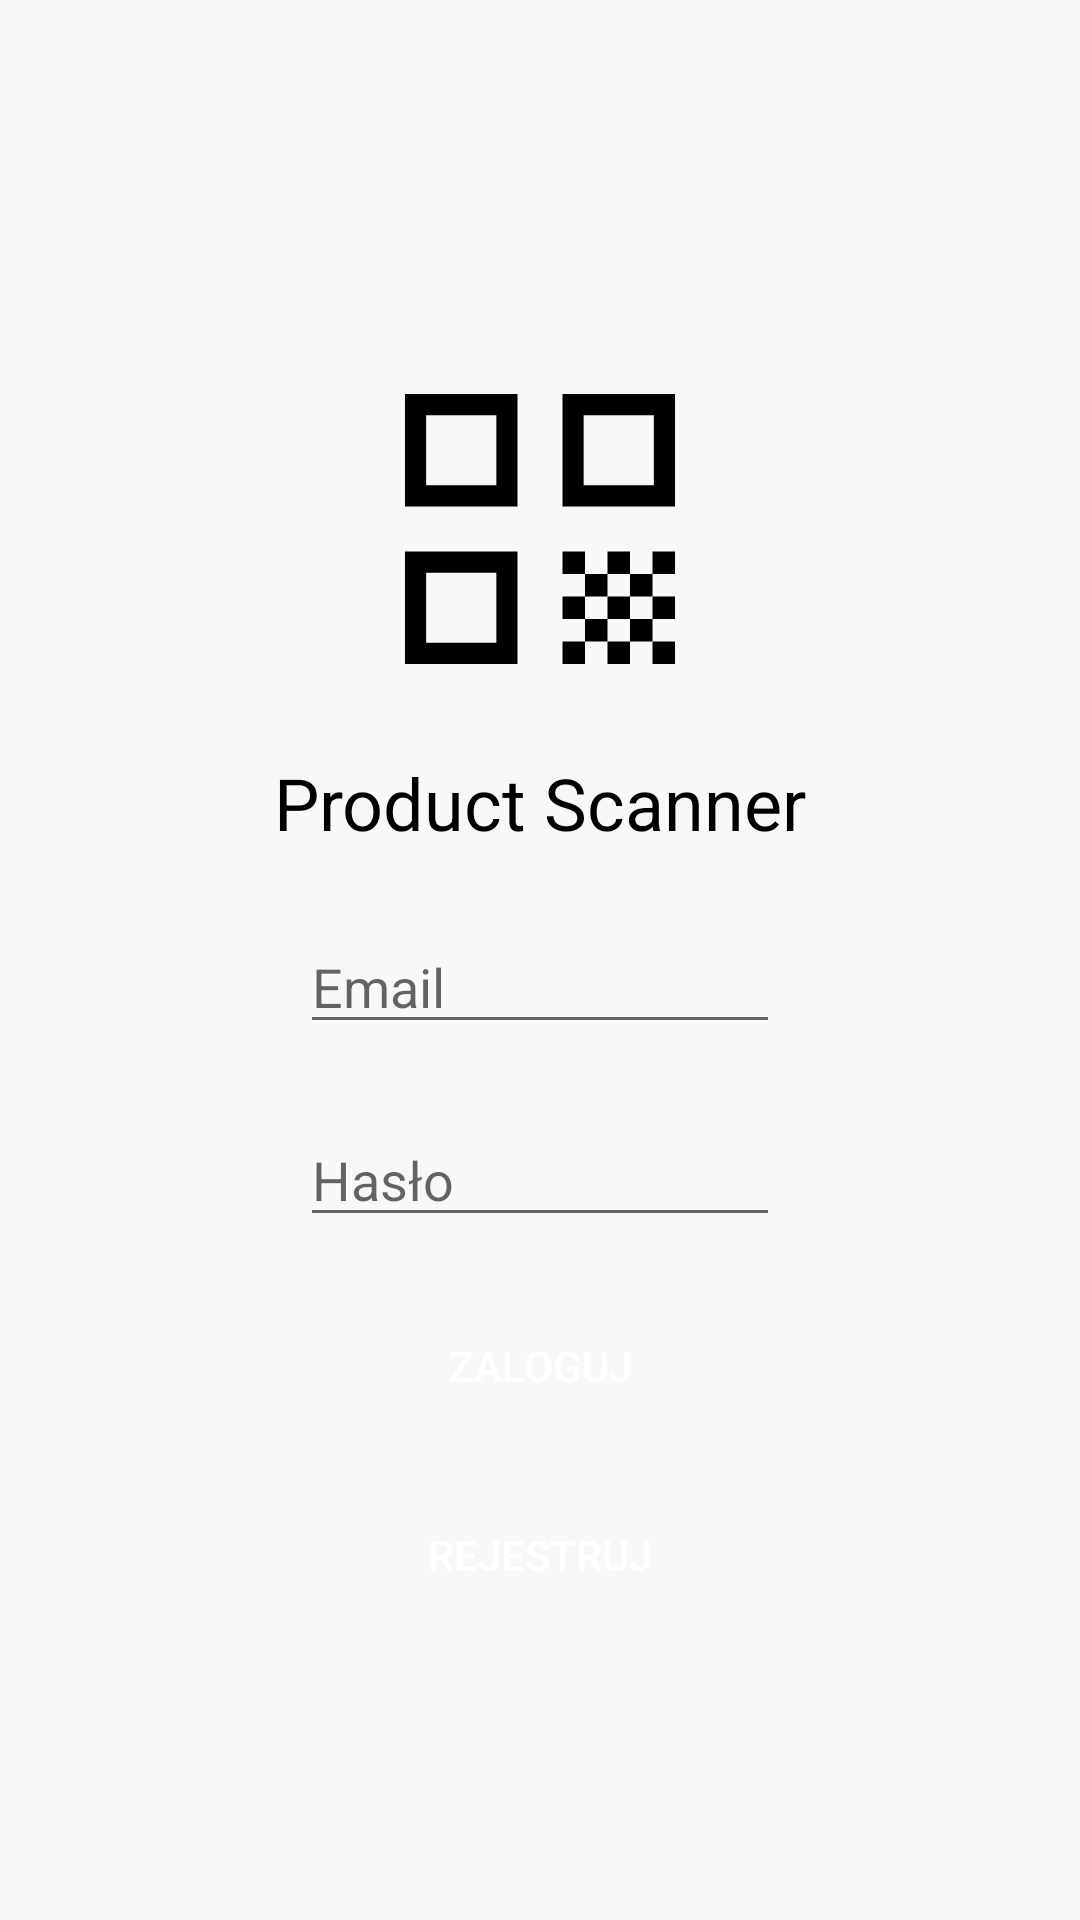

Screen size 1080 x 1920. Icon name, then its center in pixels as (x,y):
qr code: (540,529)
